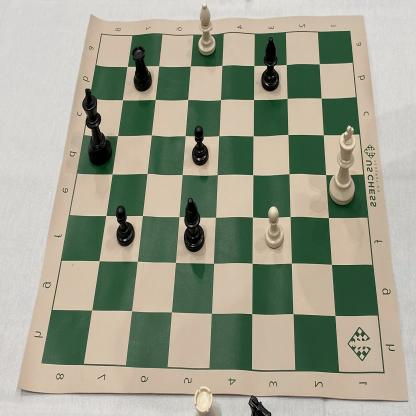black-bishop: (178, 193, 209, 255), (256, 34, 282, 96)
black-king: (81, 82, 114, 172)
black-pawn: (114, 200, 139, 251), (186, 121, 212, 169)
black-rook: (128, 42, 154, 94), (260, 200, 286, 250)
white-bishop: (191, 0, 216, 60)
white-king: (323, 115, 359, 211)
